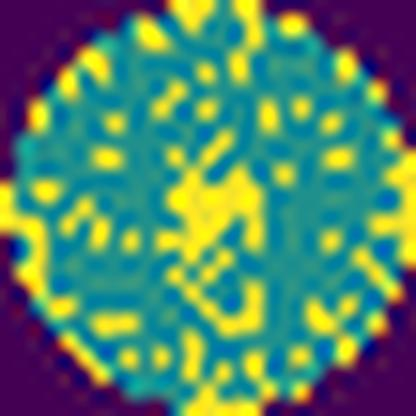Center: (156, 122, 270, 336)
